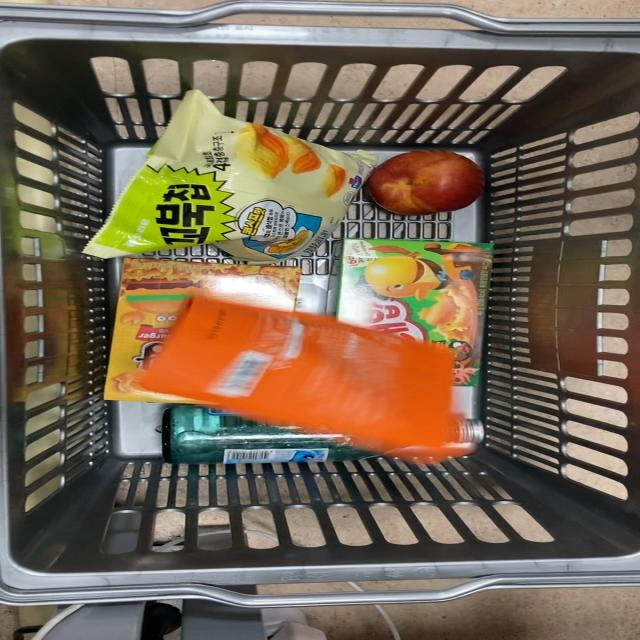cheesebagel: (152, 301, 464, 463)
ggobukchip: (69, 93, 361, 264)
goraebob: (336, 237, 527, 346)
jinro: (140, 409, 358, 475)
plum: (345, 143, 510, 222)
